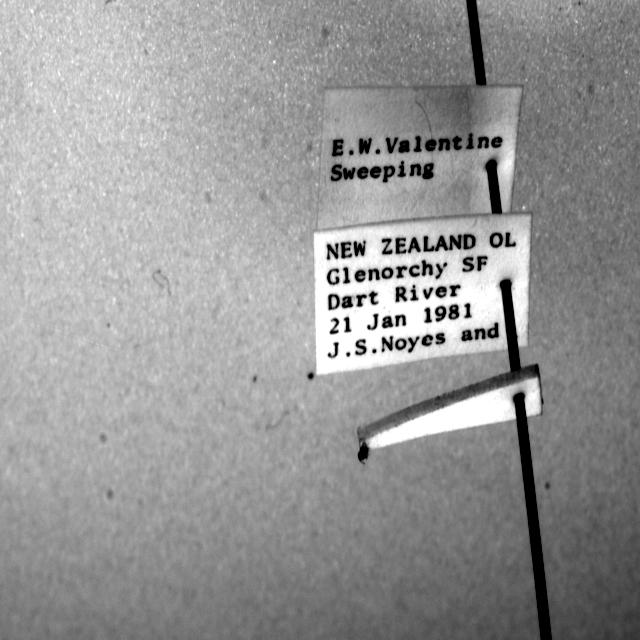typed_label: (314, 214, 531, 375), (318, 84, 522, 229)
